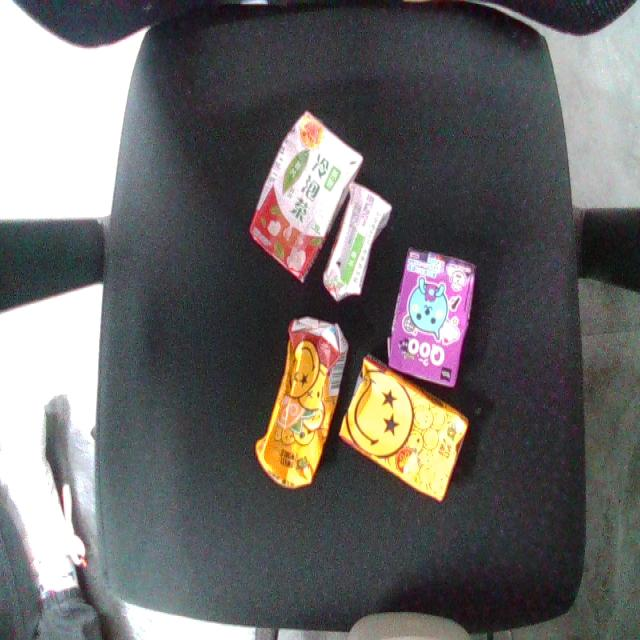juicebox: (304, 337, 507, 522), (218, 94, 381, 298), (235, 301, 368, 512), (377, 228, 496, 398), (306, 170, 408, 318)
